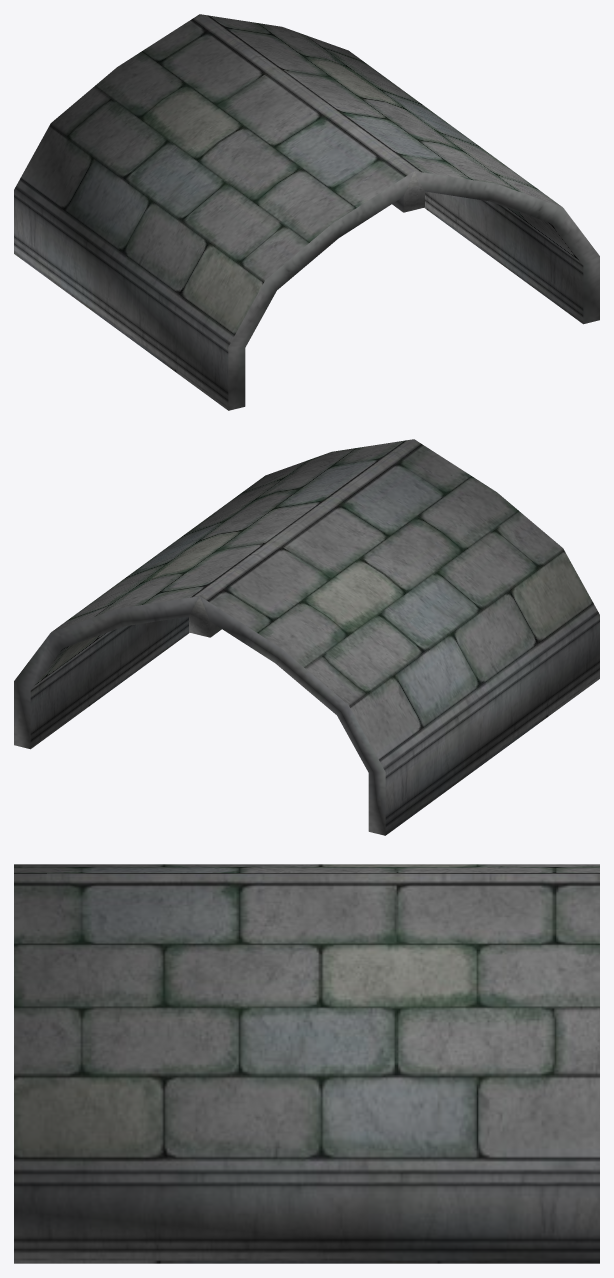
File: barrel_ceiling_large_01.glb
3 renders of one model, top to bottom at view 1: azimuth 30°, elevation 25°; view 2: azimuth 150°, elevation 25°; view 3: azimuth 270°, elevation 25°, orthographic. The views are drawn at different scales.
Parts seen in each view (by area): view 1: barrel_ceiling_large_01; view 2: barrel_ceiling_large_01; view 3: barrel_ceiling_large_01.
Part boxes in pixels (x1=…): barrel_ceiling_large_01: x1=14, y1=14, x2=599, y2=410; barrel_ceiling_large_01: x1=14, y1=439, x2=599, y2=835; barrel_ceiling_large_01: x1=14, y1=864, x2=599, y2=1263.
Size of the model in its own units: 4 by 2 by 4.
1 material, 1 textured.
